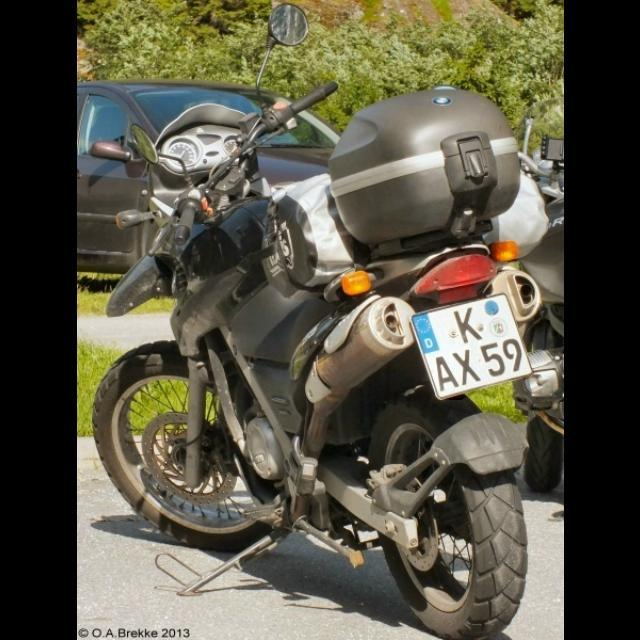license-plates: (413, 295, 531, 400)
